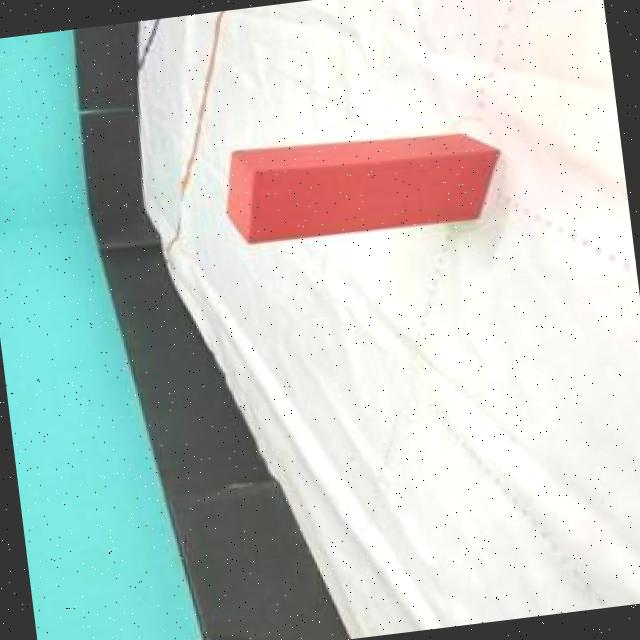redbox: (216, 116, 507, 250)
